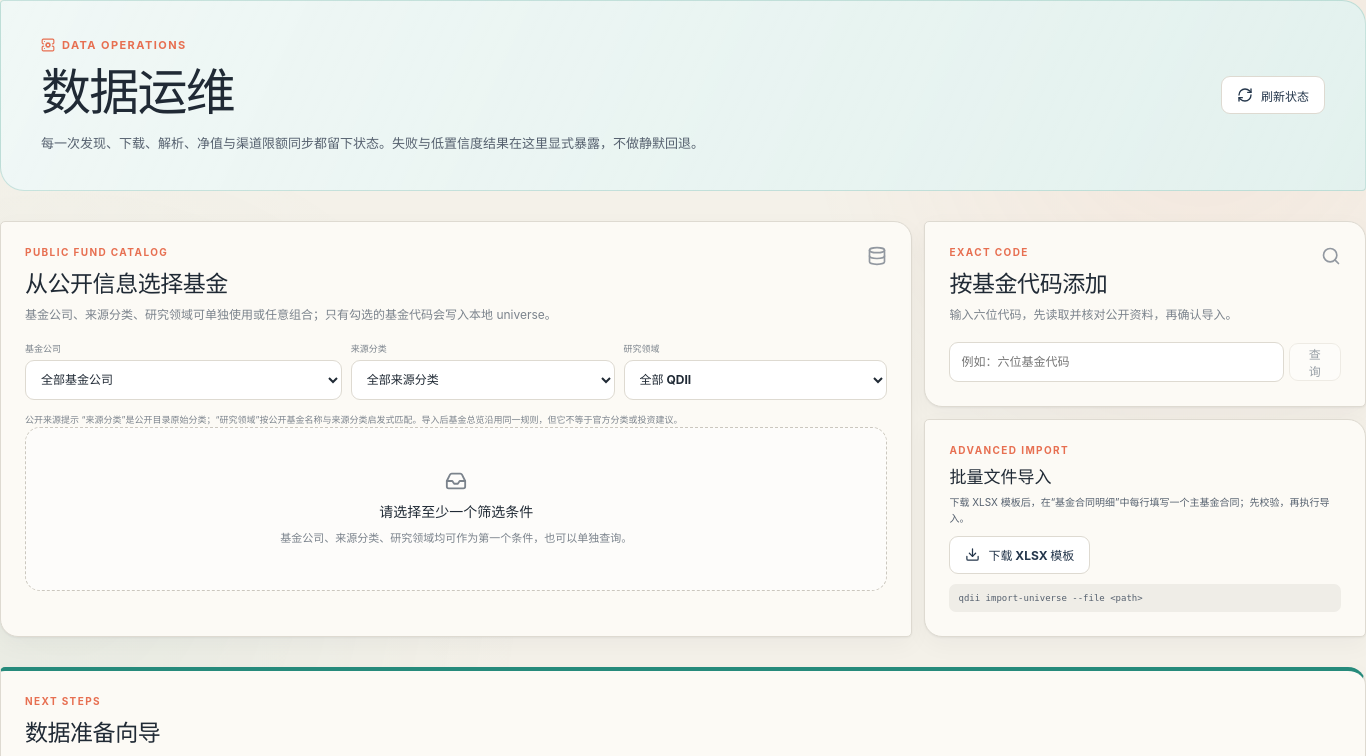
Test: DataOpsPage purchase-limit coverage › discovers by an independent source category and imports only explicitly selected funds
This screenshot has width=1366, height=756.
Expected: the text "请选择至少一个筛选条件" is shown, x1=379 y1=501 x2=533 y2=521
Select "全球股票" in the dropdown labelled "来源分类" at {"x": 483, "y": 380}, box x1=351 y1=360 x2=615 y2=400
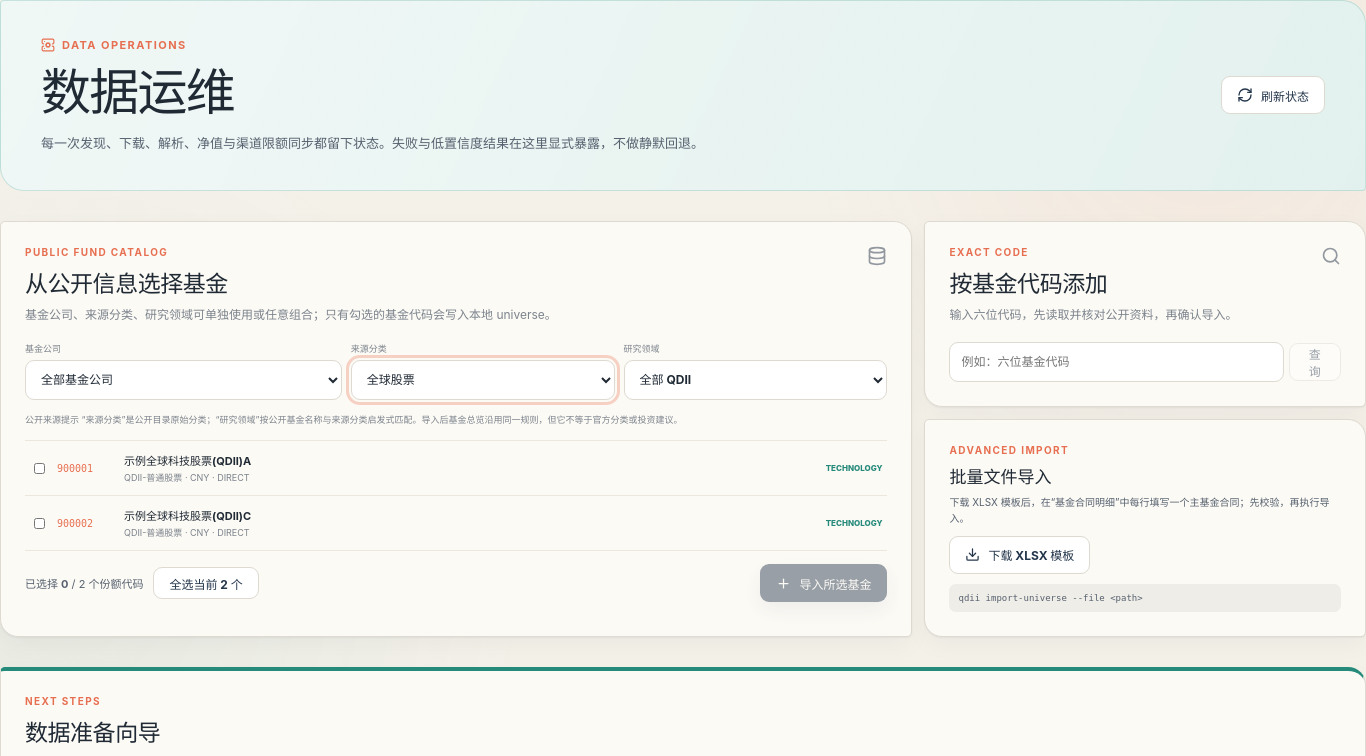
Click the button "全选当前 2 个".
click(206, 583)  # box x1=154 y1=567 x2=259 y2=599
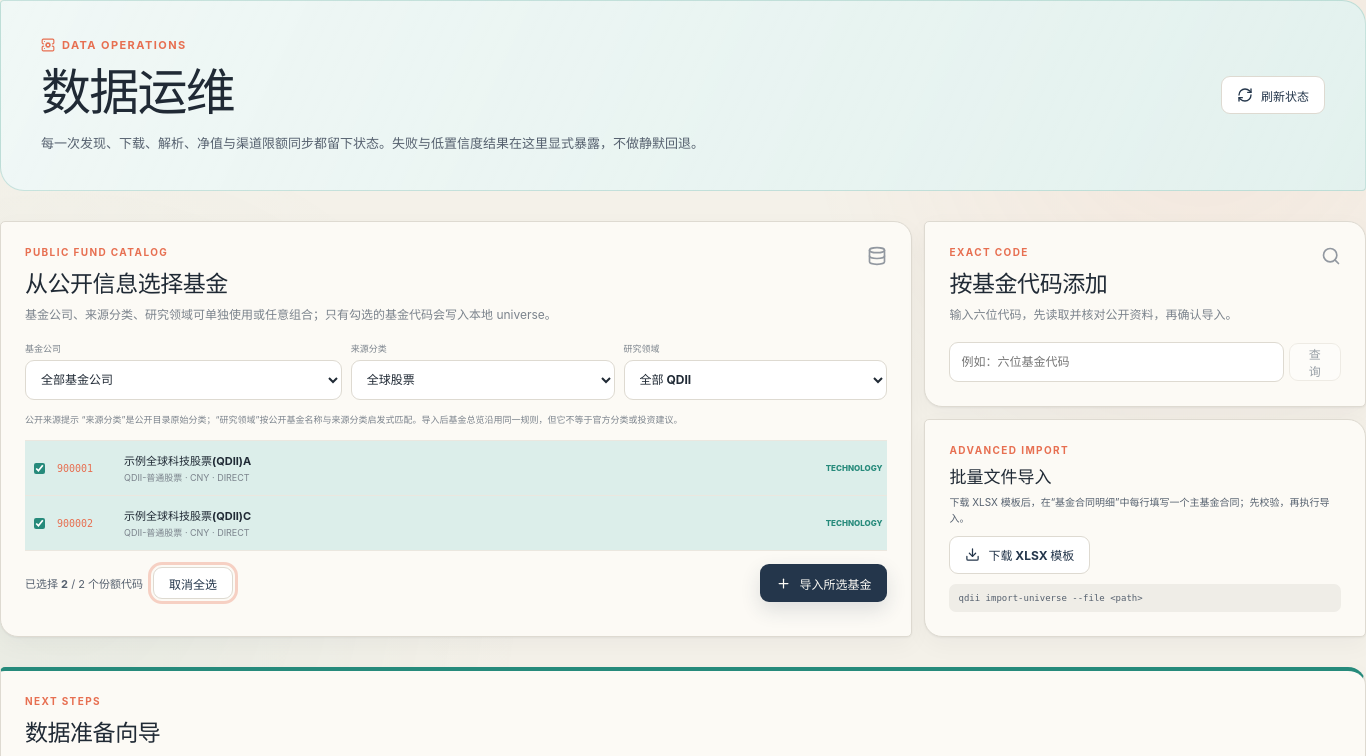
Now the number of checkboxes is 2, box x1=34 y1=462 x2=45 y2=475; x1=34 y1=517 x2=45 y2=530
Now the checkbox labelled "900001 示例全球科技股票(QDII)A QDII-普通股票 · CNY · DIRECT TECHNOLOGY" is checked, box x1=34 y1=462 x2=45 y2=475
Now the checkbox labelled "900002 示例全球科技股票(QDII)C QDII-普通股票 · CNY · DIRECT TECHNOLOGY" is checked, box x1=34 y1=517 x2=45 y2=530
Click the button "取消全选".
click(193, 583)  # box x1=153 y1=567 x2=233 y2=599
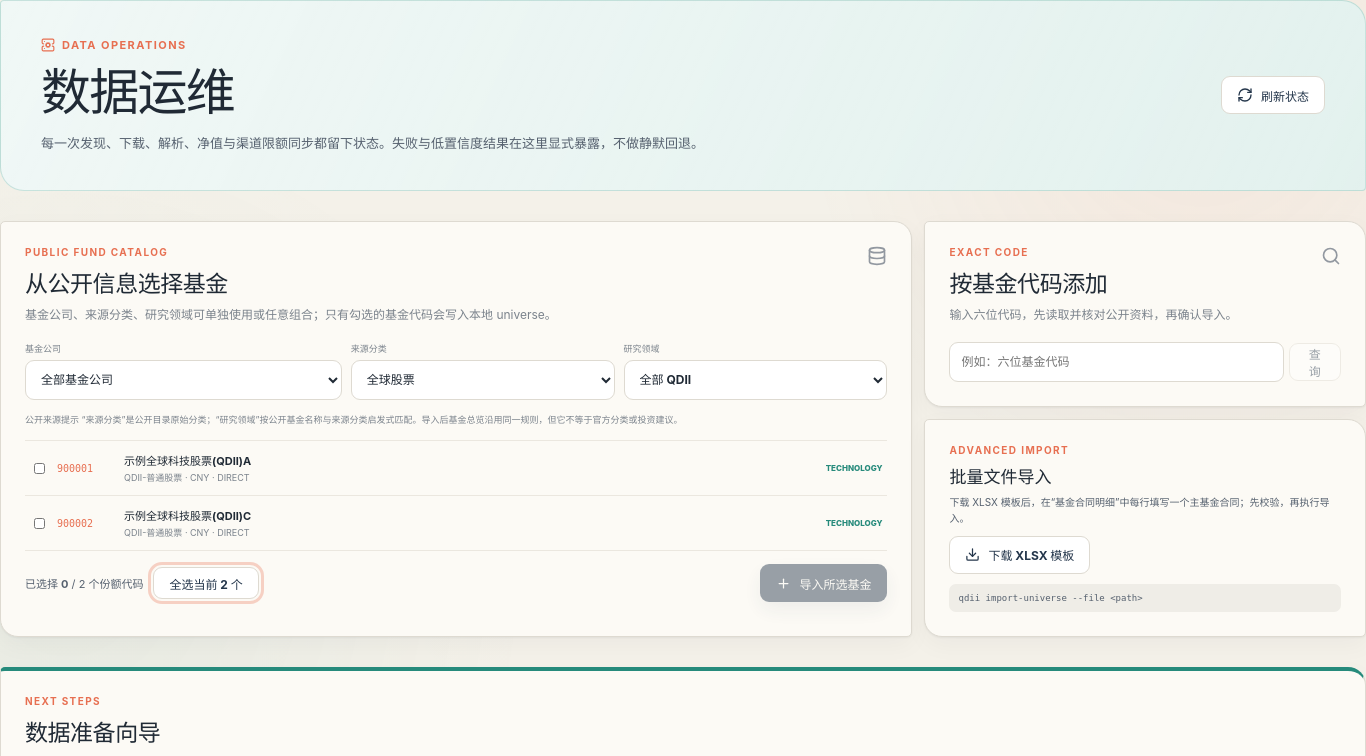
Now the checkbox labelled "900001 示例全球科技股票(QDII)A QDII-普通股票 · CNY · DIRECT TECHNOLOGY" is not checked, box x1=34 y1=462 x2=45 y2=475
Now the checkbox labelled "900002 示例全球科技股票(QDII)C QDII-普通股票 · CNY · DIRECT TECHNOLOGY" is not checked, box x1=34 y1=517 x2=45 y2=530
Click the button "全选当前 2 个".
click(206, 583)  # box x1=154 y1=567 x2=259 y2=599
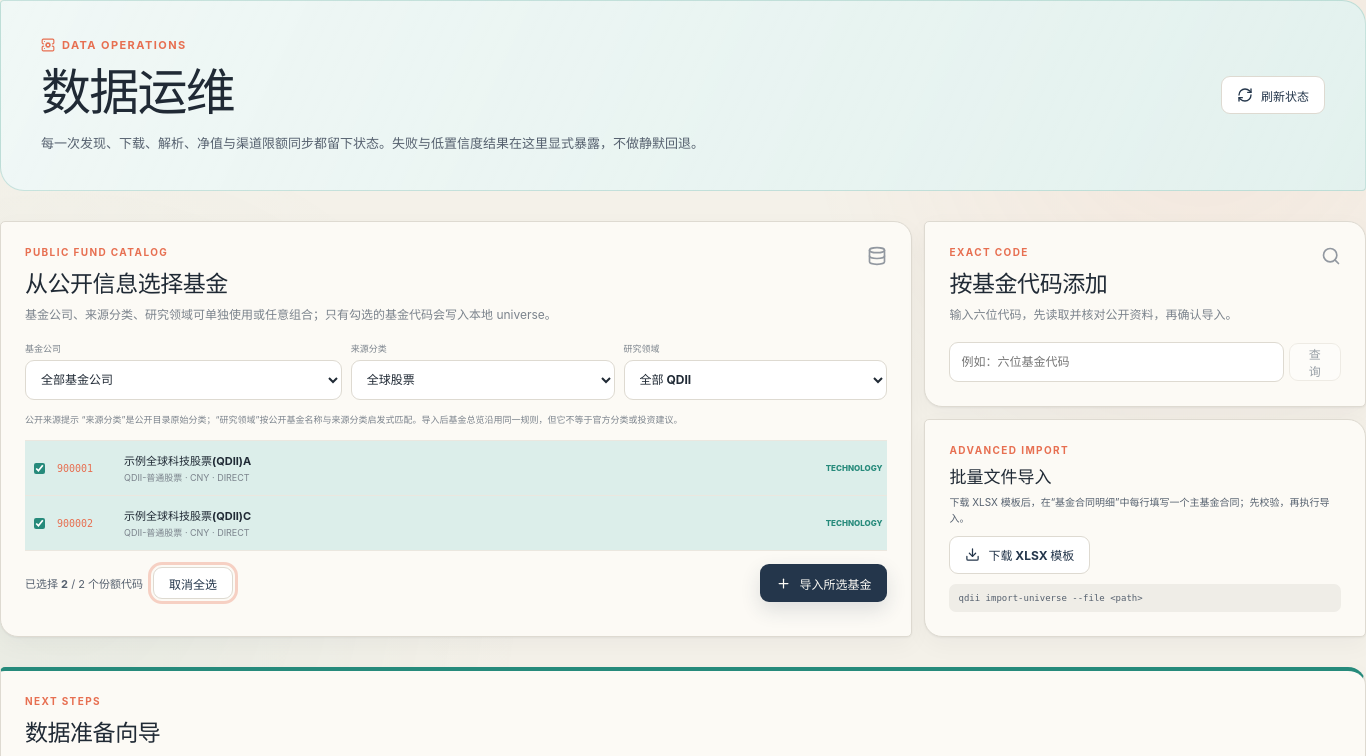
Click the button "导入所选基金".
click(824, 583)  # box x1=760 y1=564 x2=888 y2=602
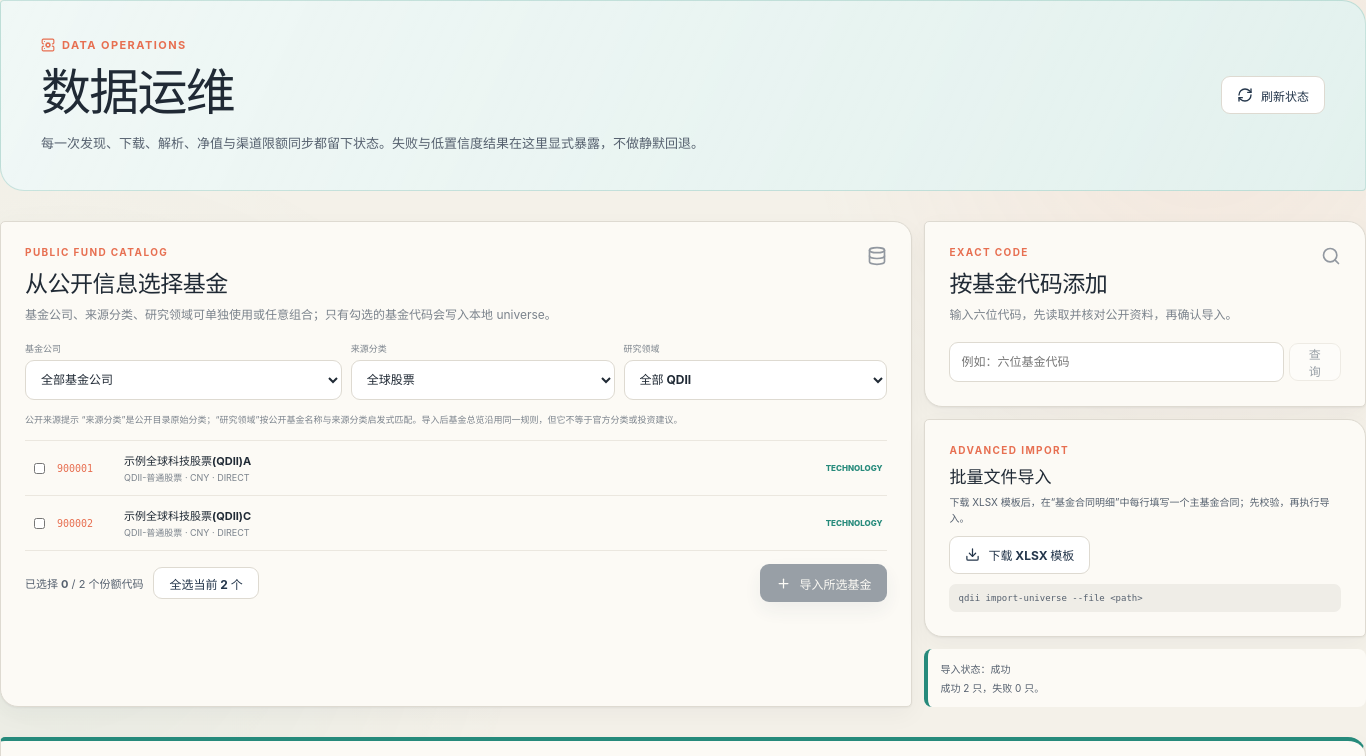
Now the text "导入状态：成功" is shown, box x1=940 y1=663 x2=1010 y2=675
